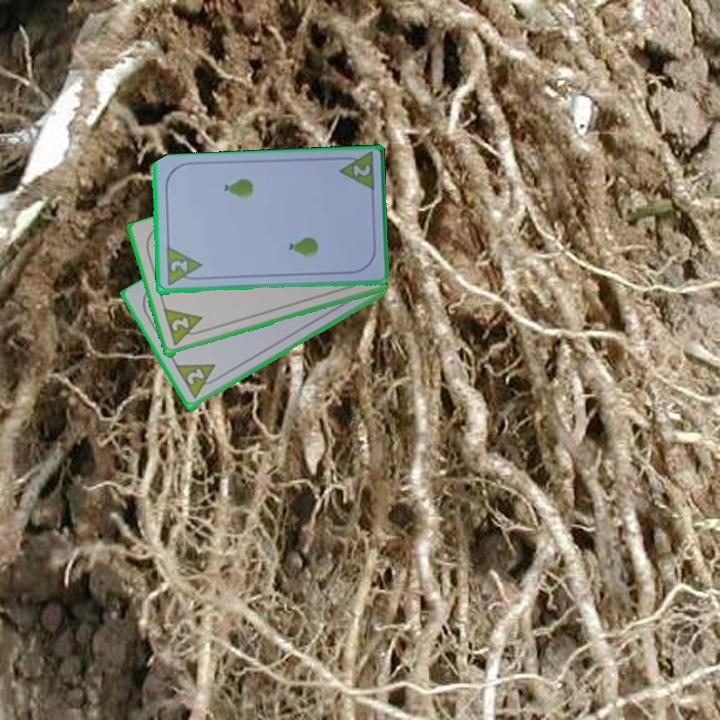2p: (160, 306, 208, 349), (334, 150, 377, 195), (162, 245, 204, 289), (183, 365, 207, 388)
